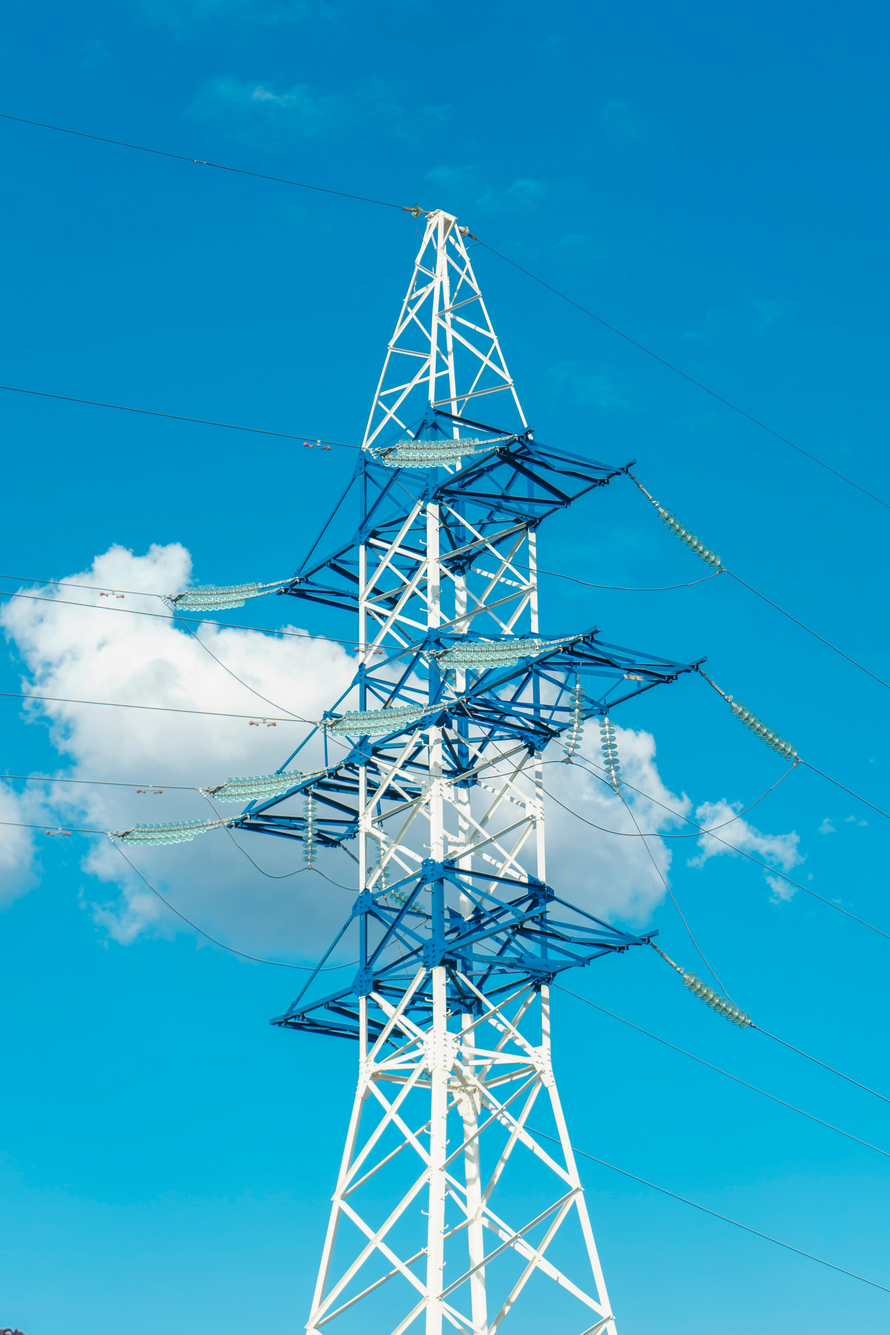insulator: (629, 464, 733, 579), (705, 680, 810, 766), (657, 942, 757, 1027), (371, 426, 511, 477), (164, 572, 312, 615), (431, 636, 578, 679), (206, 760, 342, 806), (331, 696, 466, 742), (114, 811, 242, 852), (595, 709, 630, 793), (300, 785, 319, 866), (568, 669, 582, 766)
